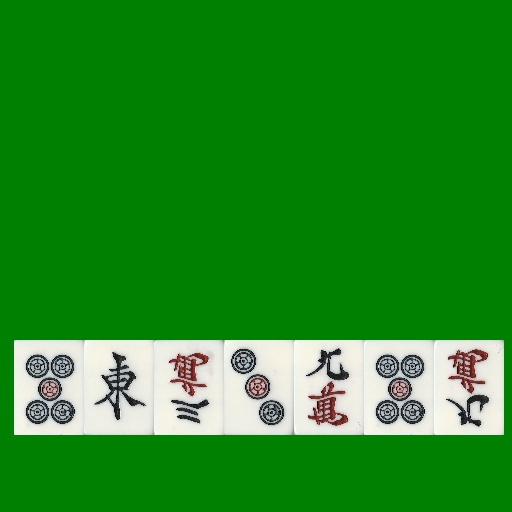3m: (154, 340, 224, 435)
3p: (224, 340, 294, 435)
5p: (14, 340, 84, 435), (364, 340, 434, 435)
9m: (294, 340, 364, 435), (434, 340, 504, 435)
east: (84, 340, 154, 435)
